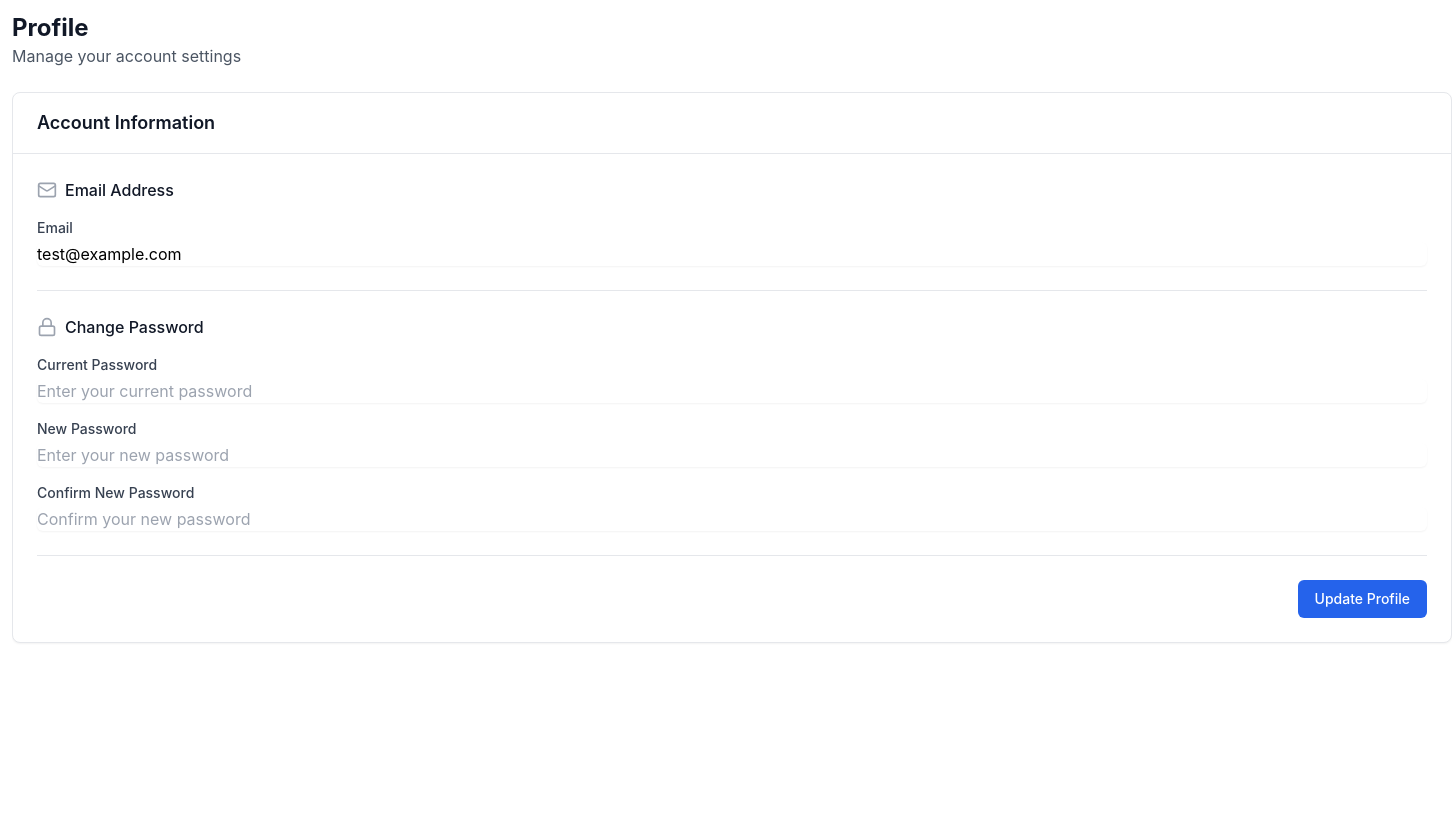
Profile Component › requires current password when changing password
Type "newpassword" into the password field labelled "New Password" at (732, 455), box [37,443,1427,467]
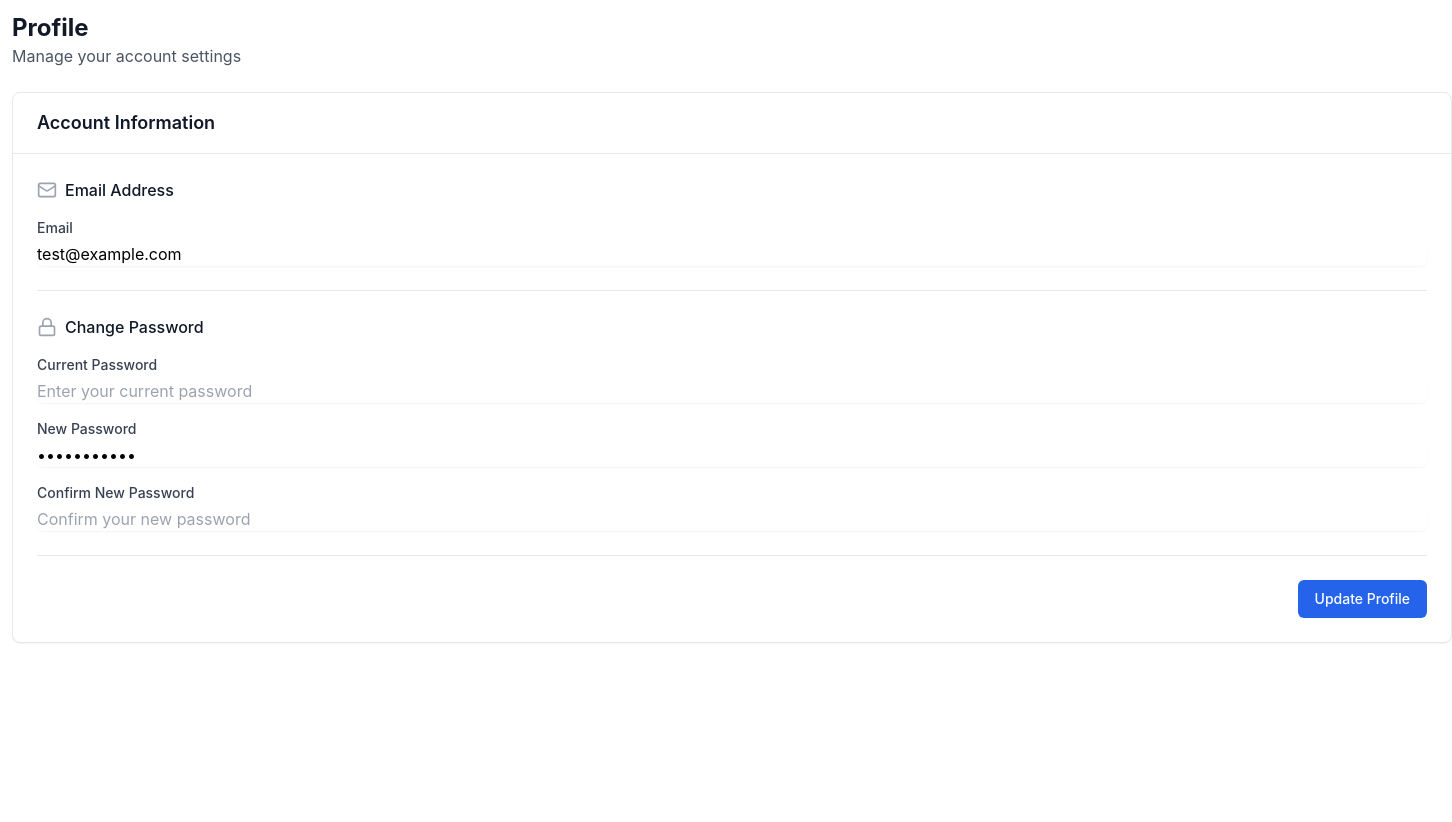
Type "newpassword" into the password field labelled "Confirm New Password" at (732, 519), box [37,507,1427,531]
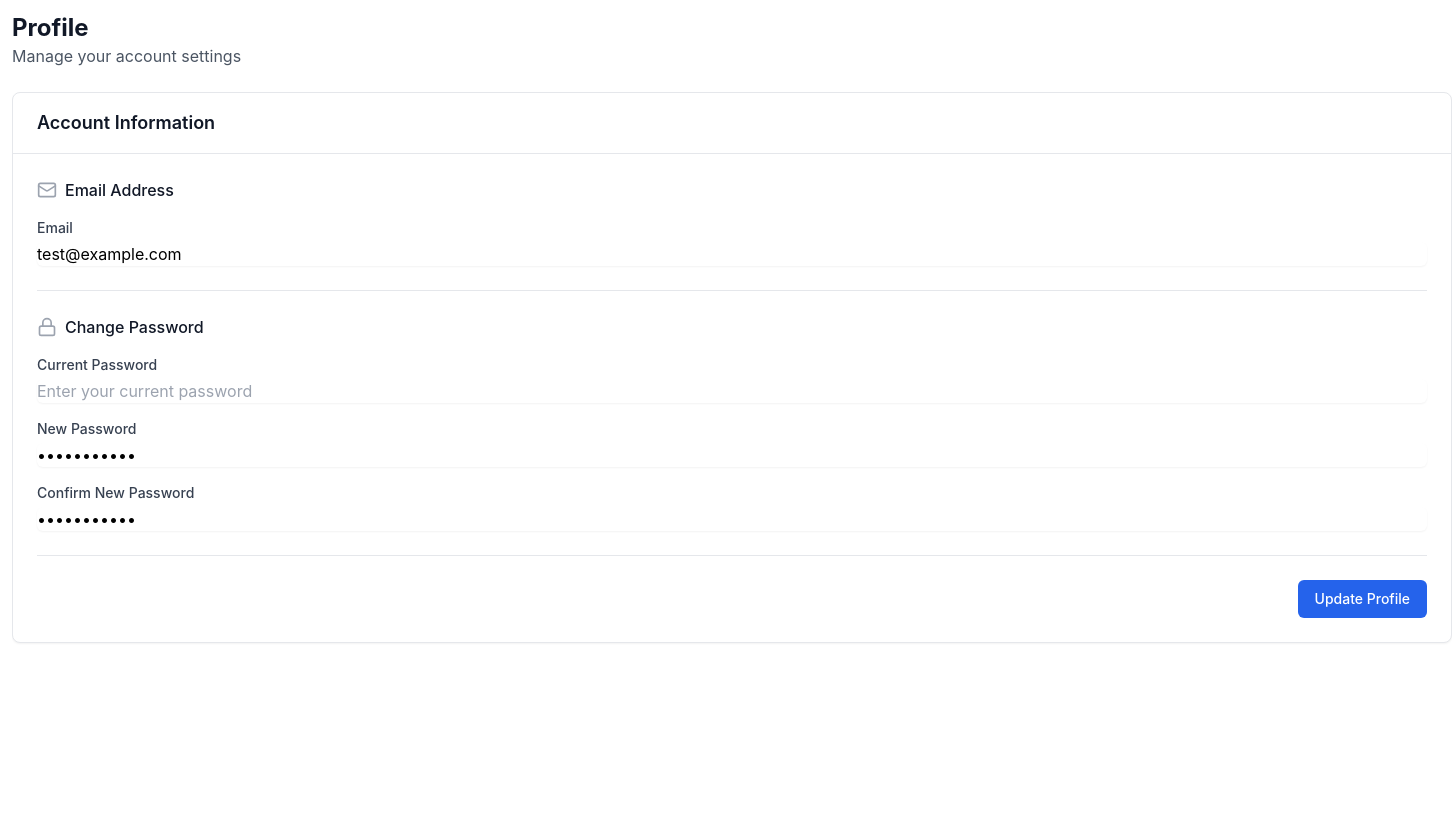
Click the button "Update Profile" at (1362, 599), box [1298,580,1427,618]
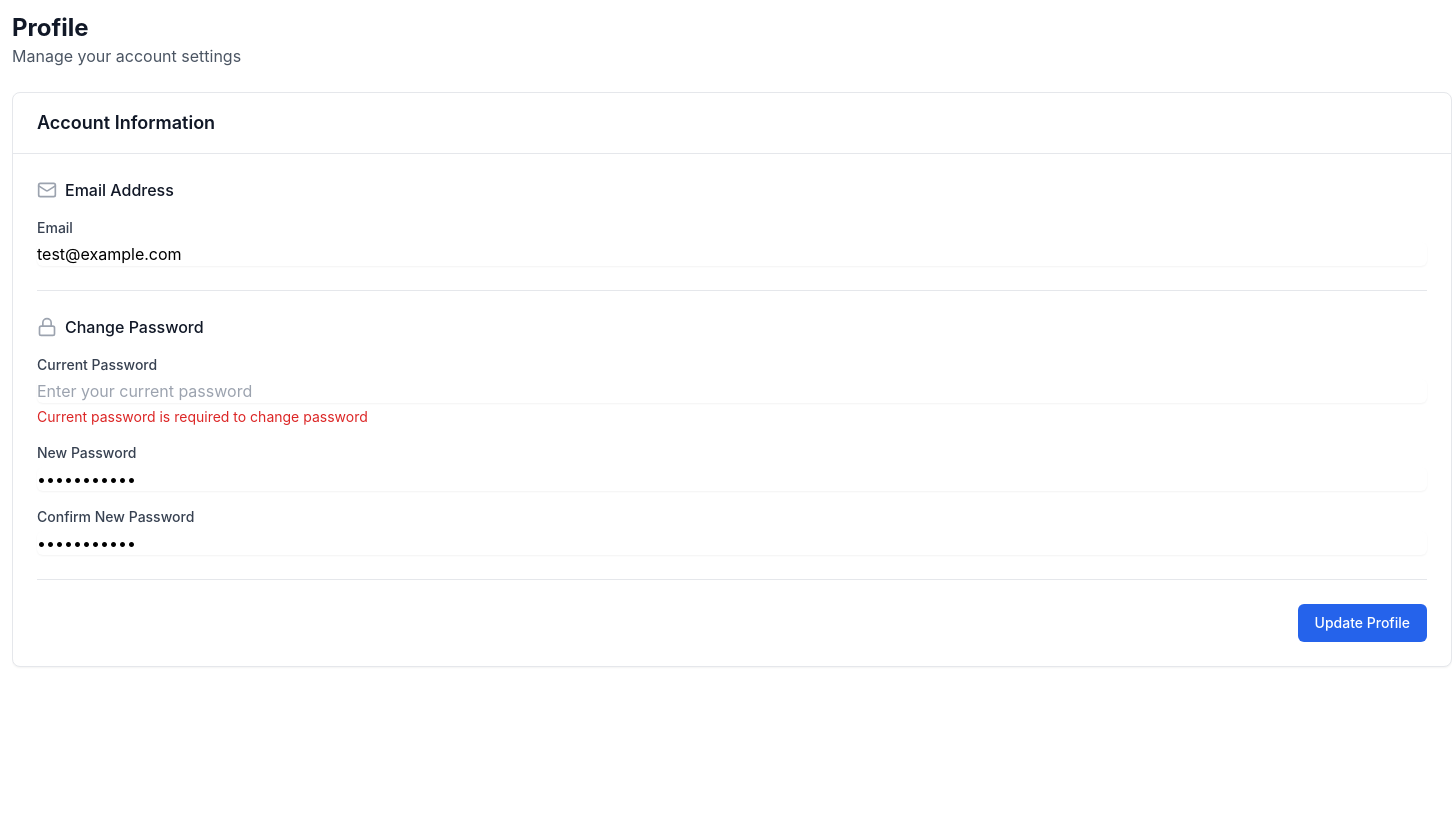
Now the text "Current password is required to change password" is shown, box [37,408,368,425]
